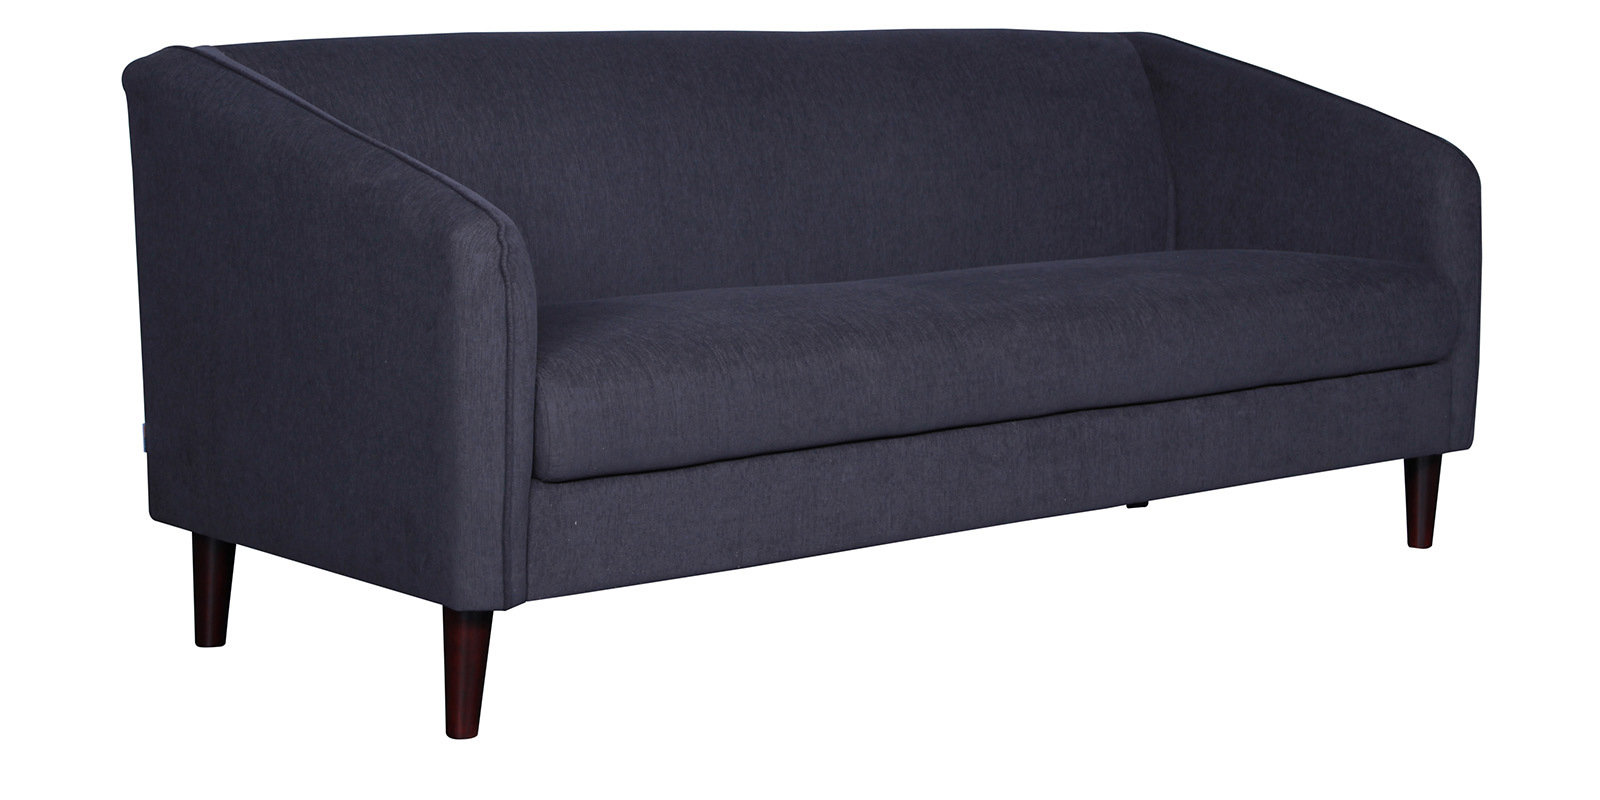Nina Three Seater Sofa in Charcoal Grey Colour by CasaCraft: (121, 29, 1482, 741)
